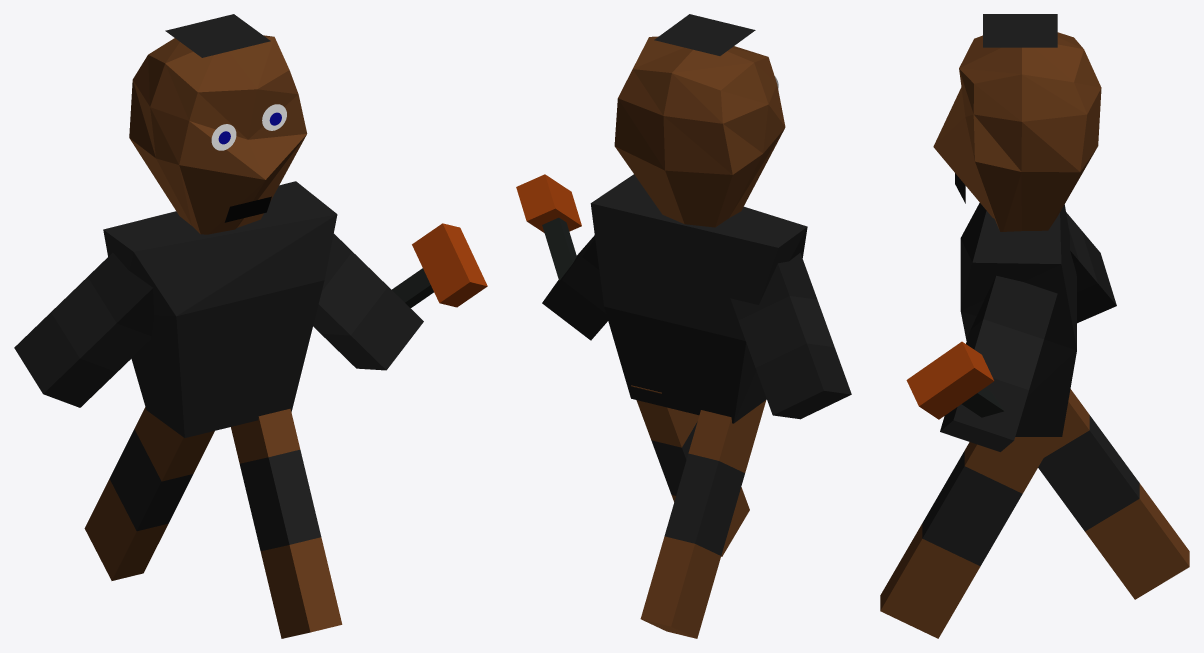
File: servant3.obj
3 views of the same model, side by side, from view 1: azimuth 30°, elevation 25°; view 2: azimuth 150°, elevation 25°; view 3: azimuth 270°, elevation 25° (orthographic). The views are drawn at different scales.
Visible parts, largest first — view 1: Cube.001, Cube, Cube.005, Cube.003, Cube.004, Cube.002, Cube.008, Plane.002, Cube.007, Plane; view 2: Cube.001, Cube, Cube.004, Cube.003, Cube.005, Cube.002, Cube.008, Plane.002, Cube.007; view 3: Cube, Cube.005, Cube.004, Cube.001, Cube.002, Cube.008, Cube.003, Plane.002, Cube.007.
Boxes of the visible parts, left/top/right/bottom form: Cube.001: left=103, top=181, right=337, bottom=437; Cube: left=129, top=35, right=307, bottom=234; Cube.005: left=231, top=408, right=342, bottom=638; Cube.003: left=14, top=252, right=153, bottom=407; Cube.004: left=84, top=407, right=214, bottom=580; Cube.002: left=313, top=233, right=423, bottom=370; Cube.008: left=412, top=223, right=487, bottom=307; Plane.002: left=165, top=14, right=270, bottom=57; Cube.007: left=392, top=268, right=433, bottom=308; Plane: left=224, top=196, right=271, bottom=222; Cube.001: left=590, top=174, right=807, bottom=423; Cube: left=614, top=36, right=785, bottom=227; Cube.004: left=640, top=400, right=766, bottom=638; Cube.003: left=730, top=253, right=851, bottom=419; Cube.005: left=631, top=385, right=749, bottom=556; Cube.002: left=542, top=235, right=607, bottom=340; Cube.008: left=516, top=174, right=581, bottom=232; Plane.002: left=654, top=14, right=755, bottom=55; Cube.007: left=542, top=217, right=576, bottom=280; Cube: left=933, top=32, right=1101, bottom=231; Cube.005: left=880, top=437, right=1055, bottom=638; Cube.004: left=1038, top=389, right=1189, bottom=599; Cube.001: left=960, top=203, right=1076, bottom=436; Cube.002: left=940, top=275, right=1057, bottom=451; Cube.008: left=906, top=341, right=993, bottom=419; Cube.003: left=1066, top=212, right=1116, bottom=323; Plane.002: left=983, top=14, right=1057, bottom=47; Cube.007: left=961, top=388, right=1004, bottom=417.
Bounding box in the file's own units: 4.16 × 6 × 2.9.
